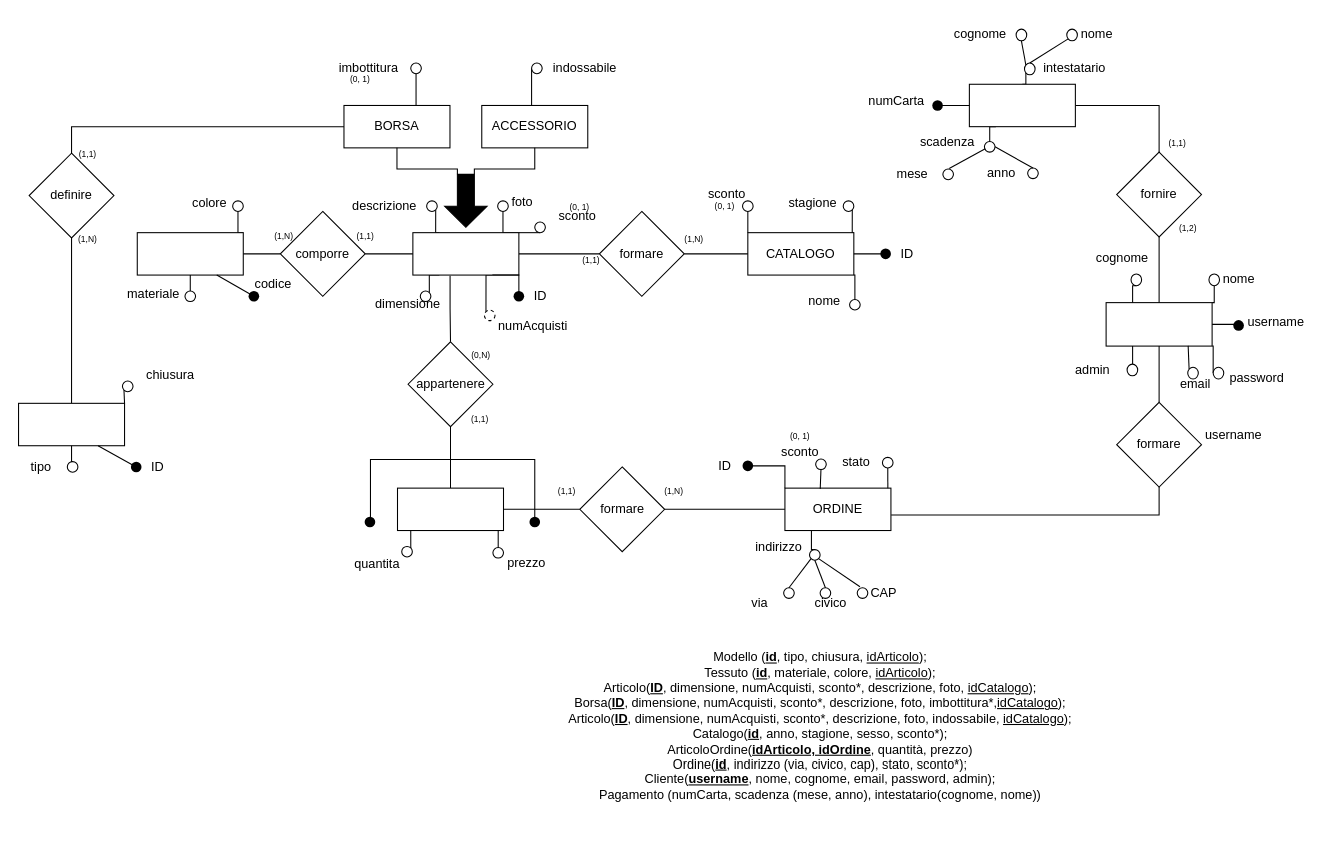
The diagram is 1337 pixels wide and 860 high, and some of its shapes have lost their labels. The shapes that lost their labels are listed below. From the top down, each one's centre as x and y in pixels, then its label:
(1021,105): Pagamento
(189,253): TESSUTO
(465,253): ARTICOLO
(1158,324): CLIENTE
(71,424): MODELLO
(450,509): ARTICOLO ORDINE
